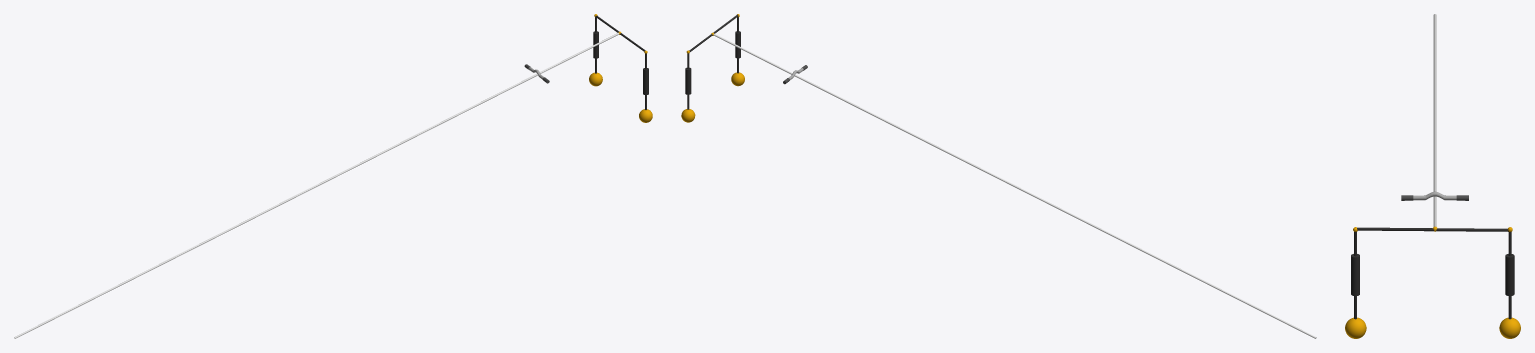
The model's file is sliding.fbx.
The picture shows the model from 3 angles, left to right: view 1: azimuth 30°, elevation 25°; view 2: azimuth 150°, elevation 25°; view 3: azimuth 270°, elevation 25°; orthographic projection. The views are drawn at different scales.
Visible parts, largest first — view 1: polySurface454; view 2: polySurface454; view 3: polySurface454, polySurface466, polySurface460, pCylinder1, polySurface457, polySurface462, polySurface465.
Boxes of the visible parts, bbox=[...] form: polySurface454: bbox=[14, 32, 619, 338]; polySurface454: bbox=[713, 33, 1316, 338]; polySurface454: bbox=[1433, 14, 1436, 226]; polySurface466: bbox=[1357, 227, 1508, 231]; polySurface460: bbox=[1505, 254, 1514, 296]; pCylinder1: bbox=[1401, 191, 1468, 200]; polySurface457: bbox=[1499, 317, 1520, 338]; polySurface462: bbox=[1345, 317, 1366, 338]; polySurface465: bbox=[1351, 254, 1359, 296].
Size of the model in its own units: 18.41 by 4.59 by 2.97.
